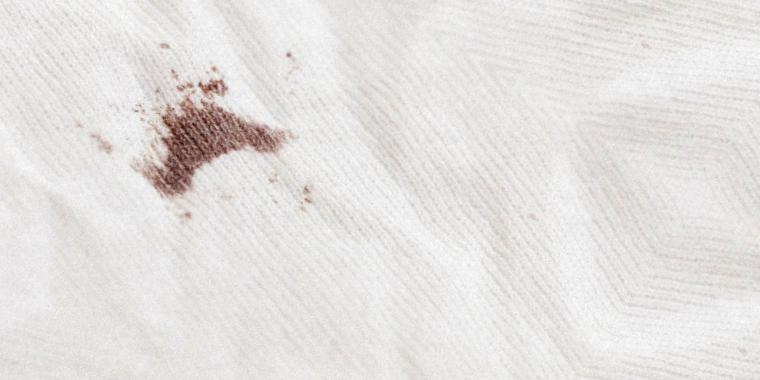stain: (134, 73, 293, 202)
